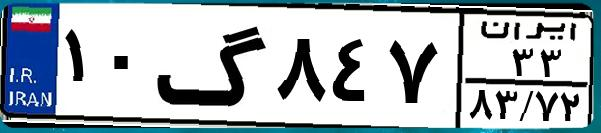0: (110, 28, 156, 98)
1: (57, 26, 110, 100)
2: (560, 70, 590, 125)
3: (537, 27, 568, 80), (508, 27, 537, 80), (495, 70, 520, 125)
4: (330, 28, 385, 110)
7: (385, 28, 445, 110), (535, 70, 560, 125)
8: (270, 28, 330, 110), (470, 70, 495, 125)
گ: (156, 12, 270, 120)
